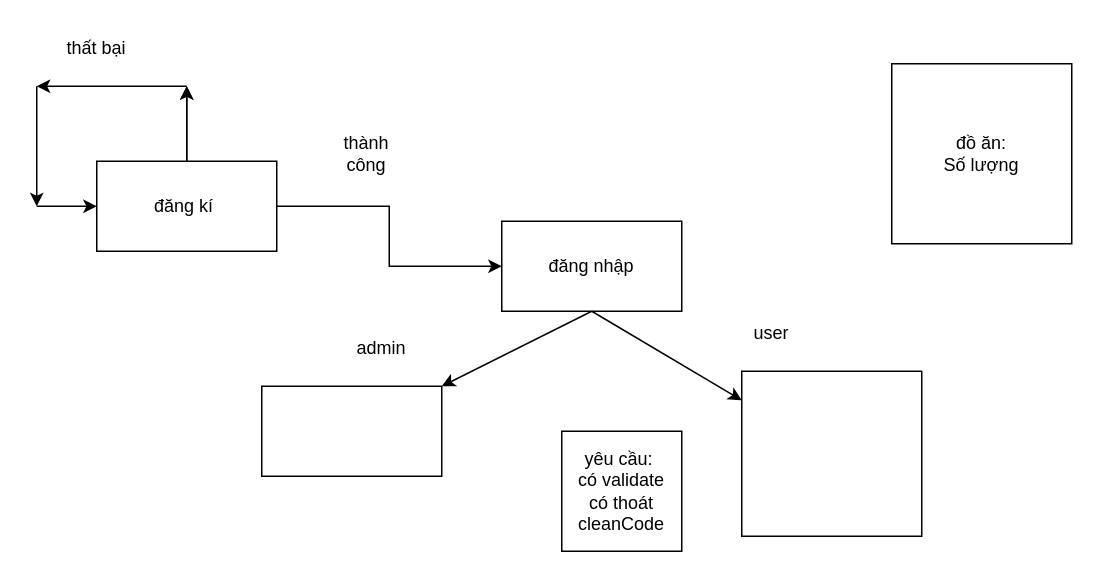
Image size: 1098x578. Some labels were removed from this diagram. The box of each missing label's shape, as (x1, y1, x2, y2) in pixels:
crud đồ ăn: (260, 385, 442, 476)
đặt đồ theo id xem menu xoá đồ đặt thanh toán: (740, 370, 922, 536)
